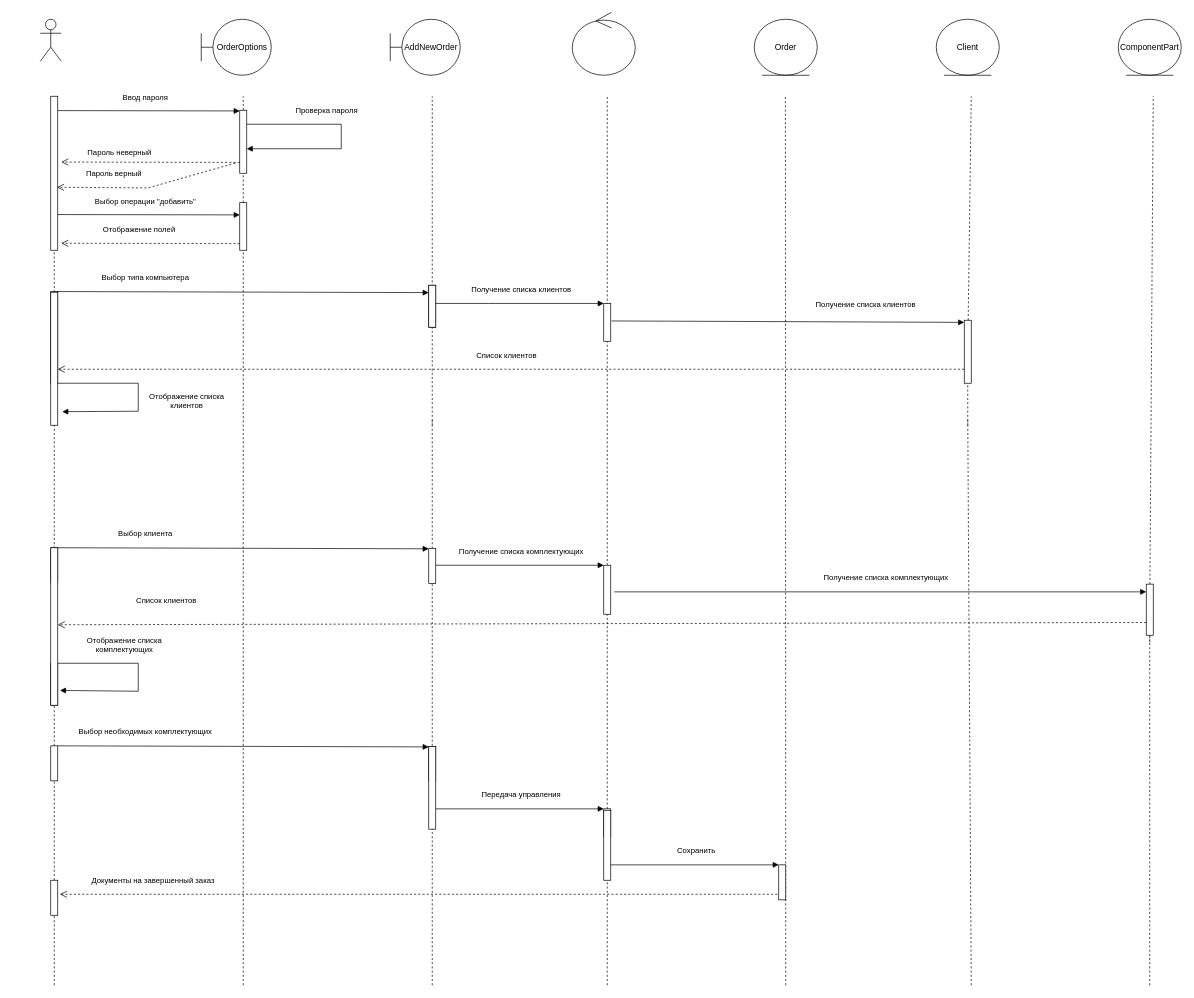
The diagram is 1194 pixels wide and 998 high, and some of its shapes have lost their labels. The shapes that lost their labels are listed below. From the top down, each one's centre as x and y in pixels, then its label:
point (50, 40): Менеджер по работе с клиентами
point (603, 43): OrderManager
